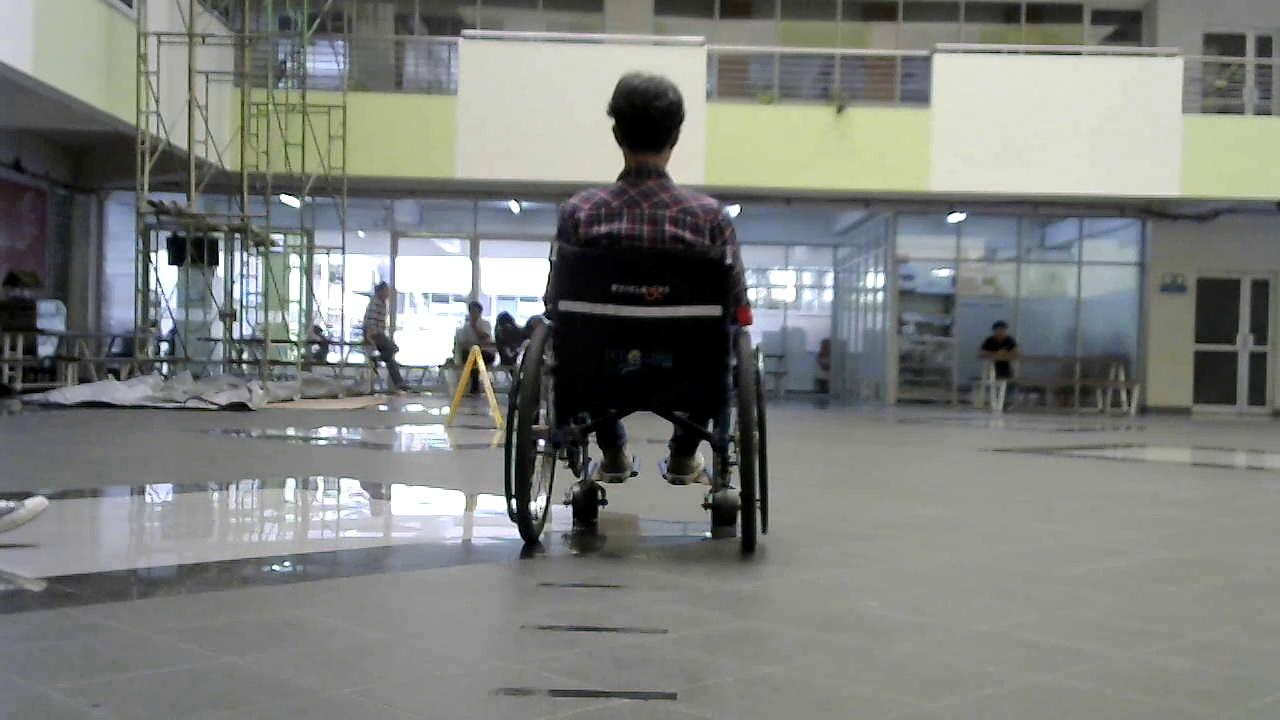person: (540, 70, 755, 509), (360, 274, 404, 396), (979, 319, 1019, 414)
wheelchair: (483, 209, 790, 578)
